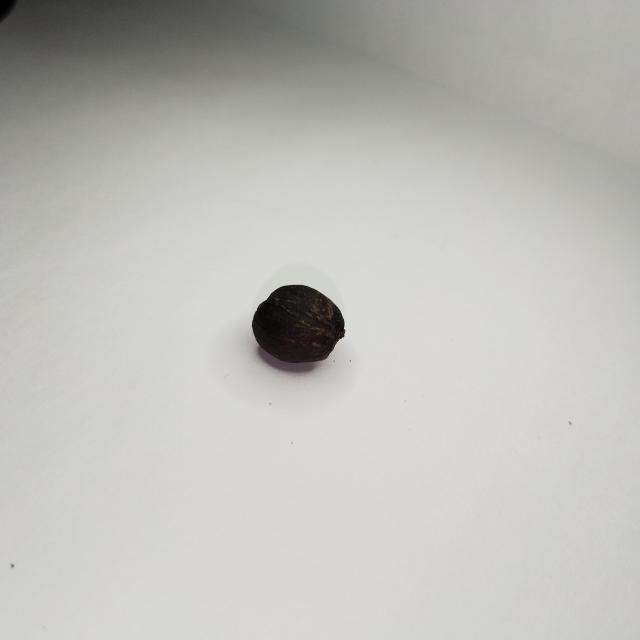Danado: (251, 284, 346, 369)
